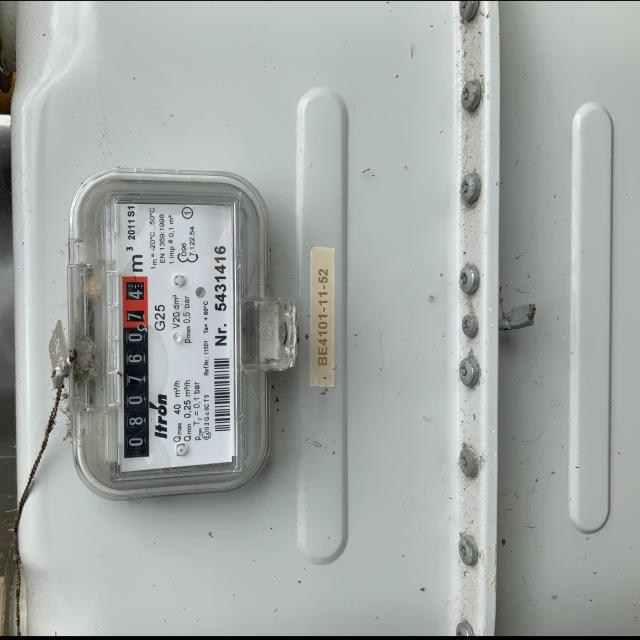gaz_meter: (112, 192, 241, 479)
indication: (121, 274, 152, 459)
